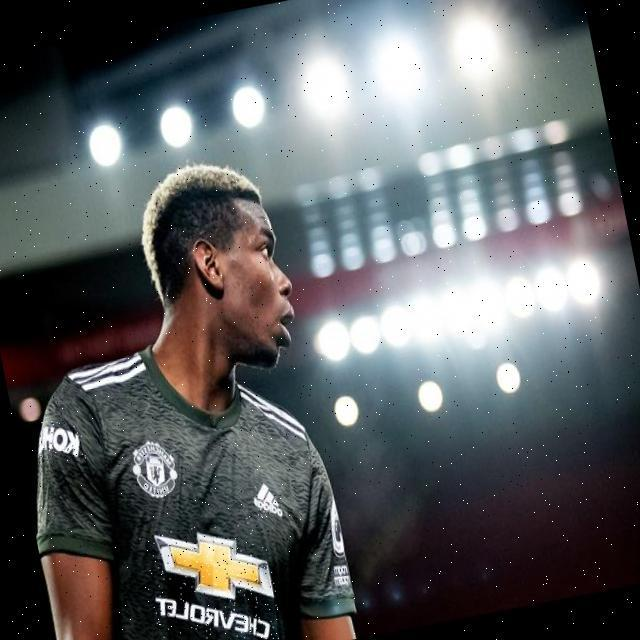Adidas: (250, 476, 285, 519)
Chevrolet: (138, 514, 285, 640)
Kohler: (32, 416, 88, 468)
